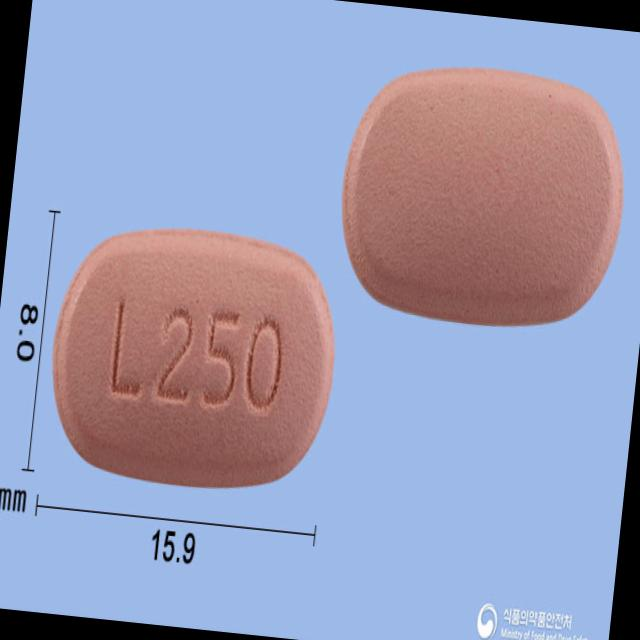Levoby - 500mg: (41, 212, 347, 498)
